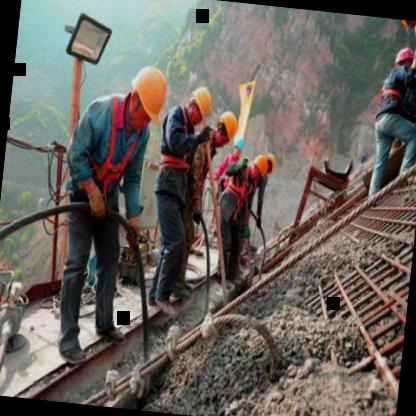helmet: (120, 58, 174, 136), (184, 82, 216, 131), (211, 109, 240, 149), (391, 43, 416, 83), (246, 152, 270, 182), (232, 135, 248, 160)
